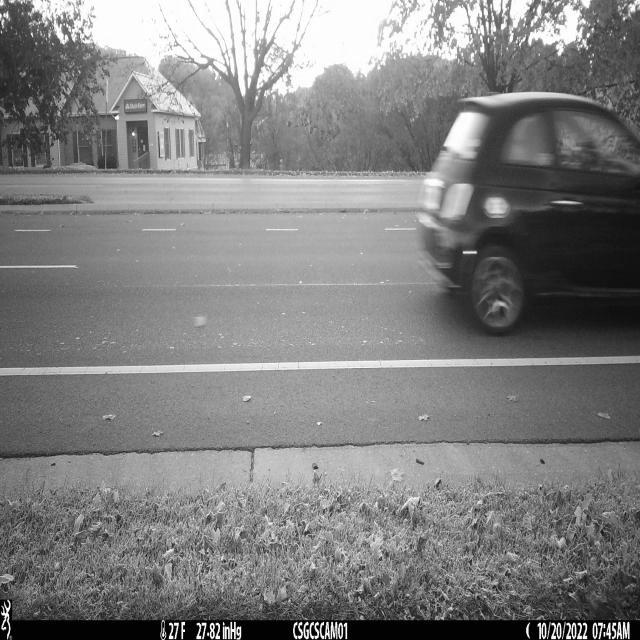Hatchback: (417, 92, 640, 333)
